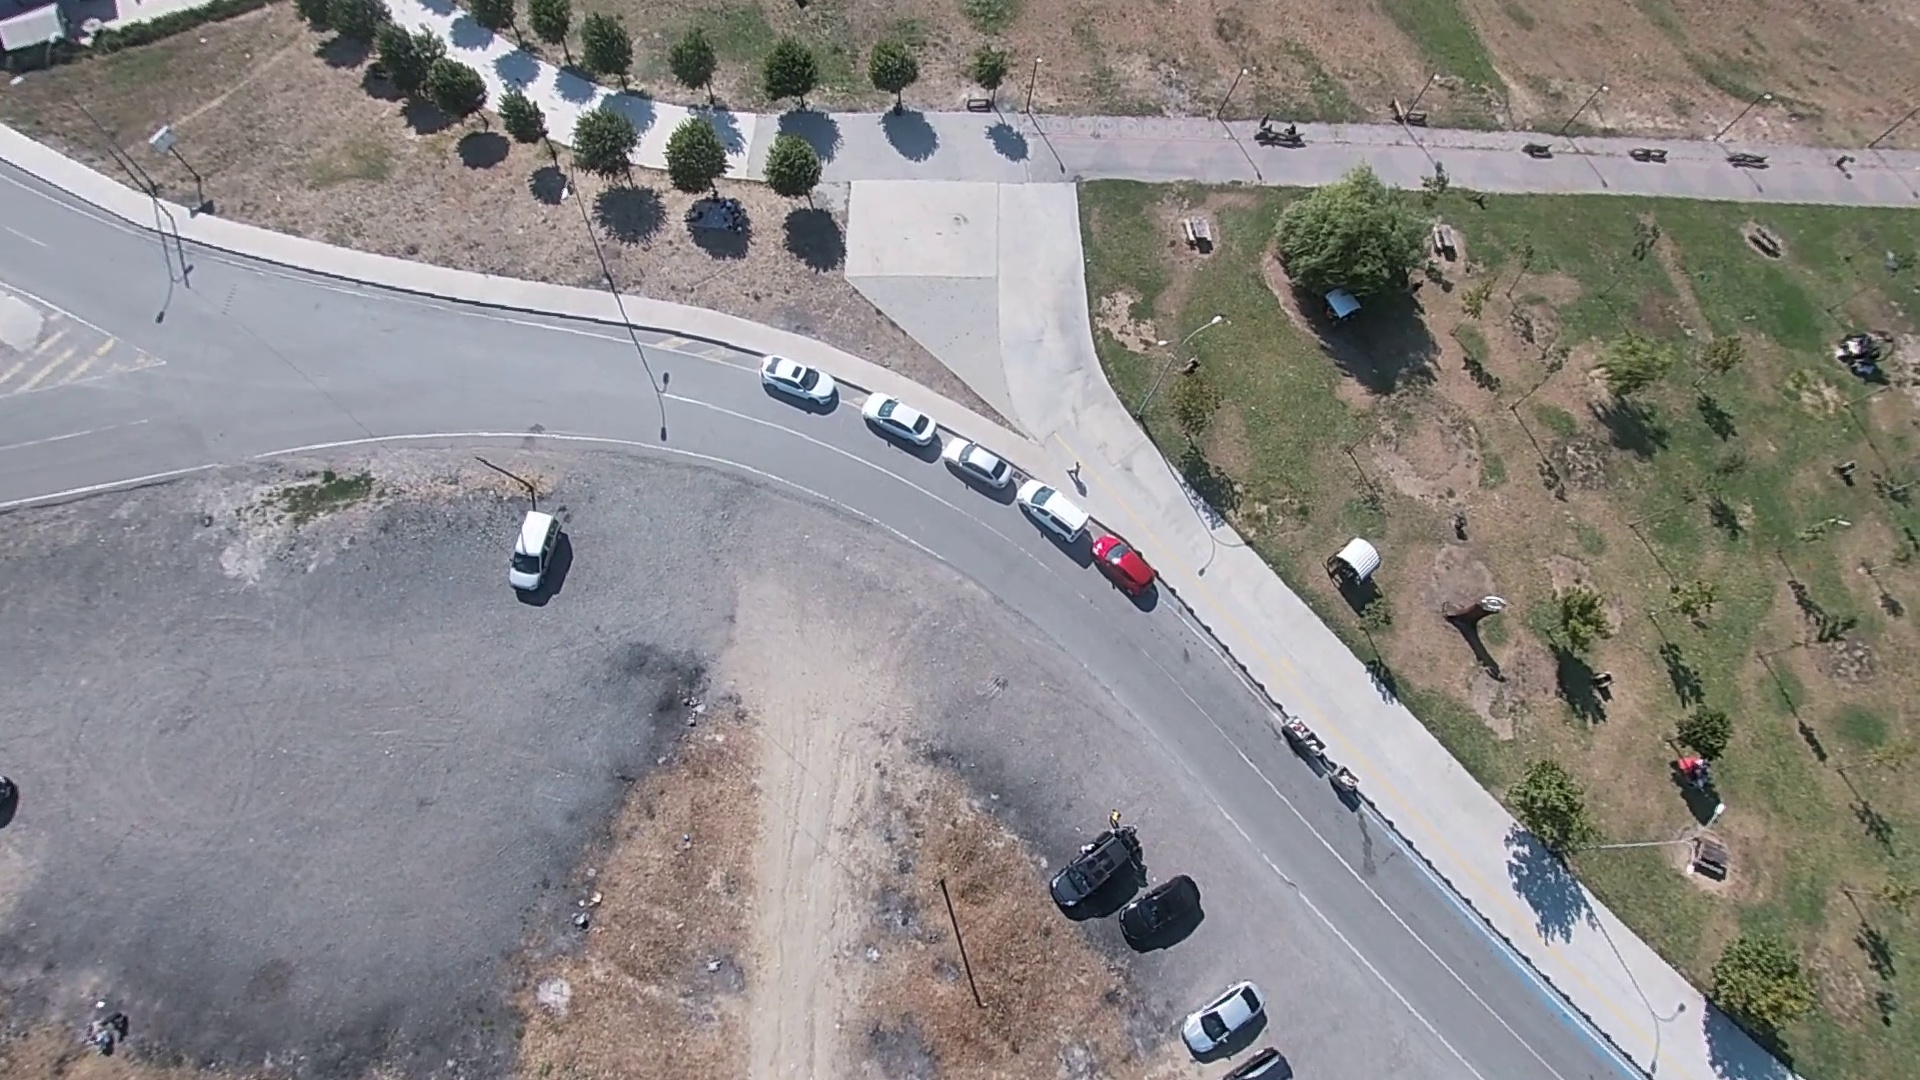arac: (1051, 804, 1153, 917), (1183, 982, 1268, 1063), (507, 505, 575, 601), (1088, 529, 1162, 608), (941, 427, 1032, 488), (1021, 467, 1090, 544), (751, 348, 839, 410), (864, 387, 938, 453)
insan: (1045, 462, 1107, 495), (92, 1011, 129, 1055)
